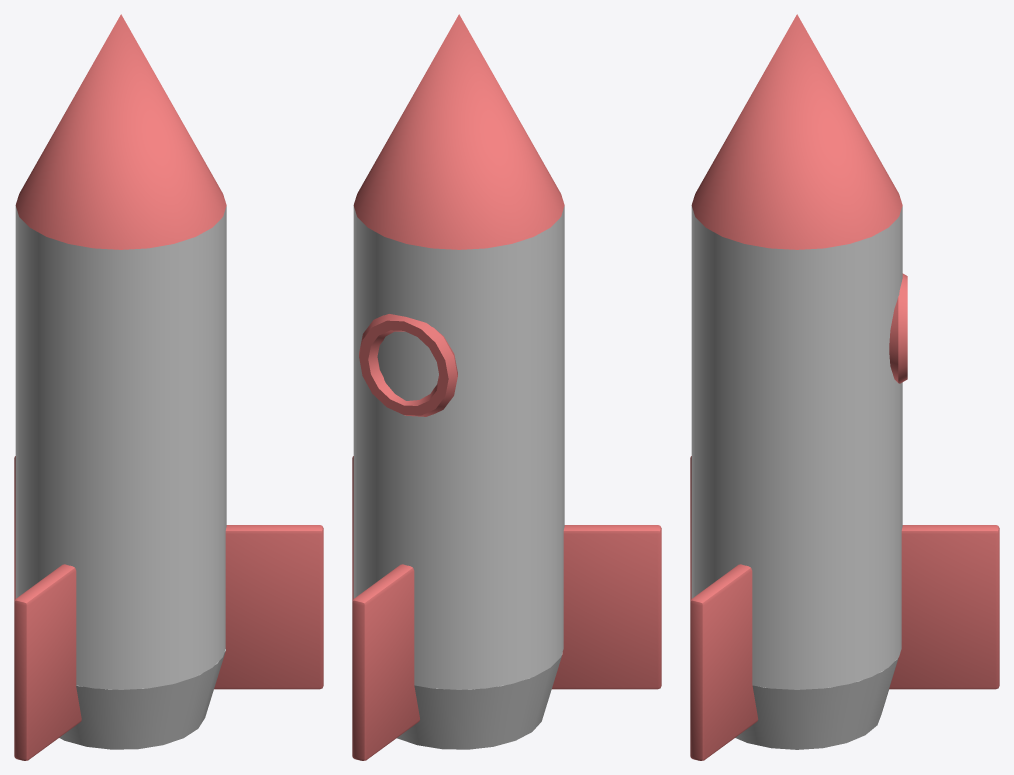
The model's file is Rocket.fbx.
3 views of the same model, side by side, from view 1: azimuth 30°, elevation 25°; view 2: azimuth 150°, elevation 25°; view 3: azimuth 270°, elevation 25° (orthographic).
Parts seen in each view (by area): view 1: Body.009, Trim.009; view 2: Body.009, Trim.009; view 3: Body.009, Trim.009.
Boxes of the visible parts, x1,y1,x2,y2 form: Body.009: [15, 206, 226, 749]; Trim.009: [14, 14, 323, 760]; Body.009: [353, 206, 564, 749]; Trim.009: [352, 14, 661, 760]; Body.009: [691, 206, 902, 749]; Trim.009: [690, 14, 999, 760].
Bounding box in the file's own units: 0.8434 × 1.83 × 0.7333.
